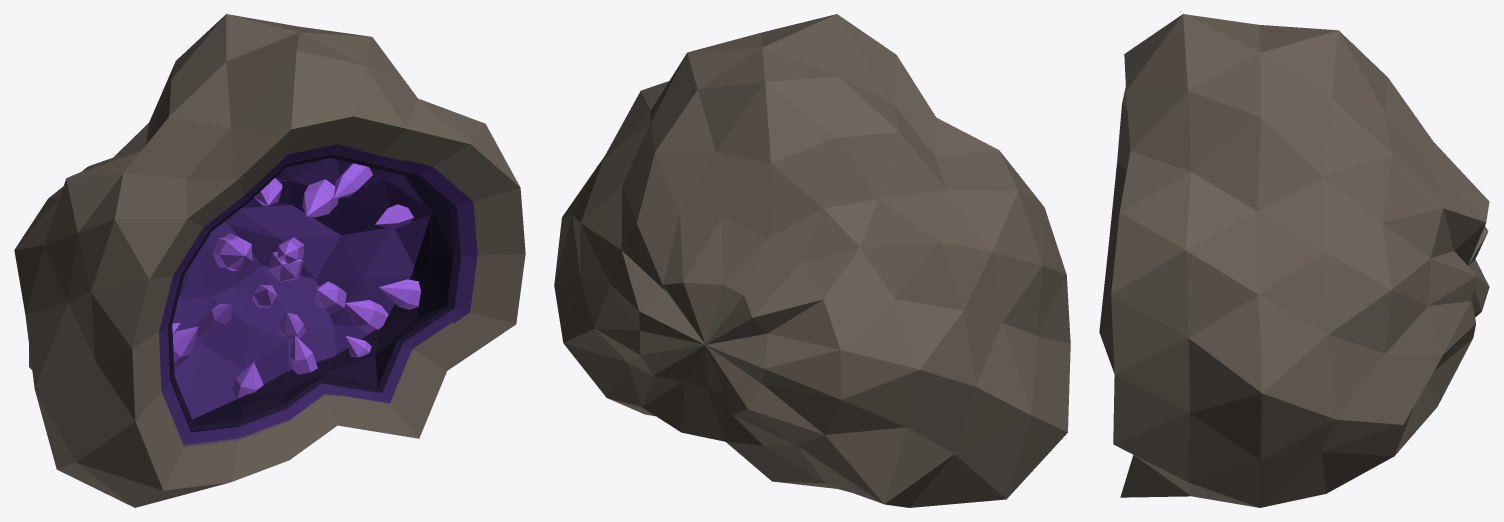
The model's file is Geode_Shell.fbx.
3 renders of one model, left to right at view 1: azimuth 30°, elevation 25°; view 2: azimuth 150°, elevation 25°; view 3: azimuth 270°, elevation 25°, orthographic. The views are drawn at different scales.
Parts seen in each view (by area): view 1: Shell, Lining, Shade, Druse; view 2: Shell; view 3: Shell.
Part boxes in pixels (x1,y1,x2,y2): Shell: [14, 14, 525, 507]; Lining: [159, 144, 477, 446]; Shade: [168, 153, 460, 432]; Druse: [172, 163, 420, 398]; Shell: [554, 14, 1070, 507]; Shell: [1099, 14, 1489, 507].
Size of the model in its own units: 2.73 by 2.36 by 1.82.
